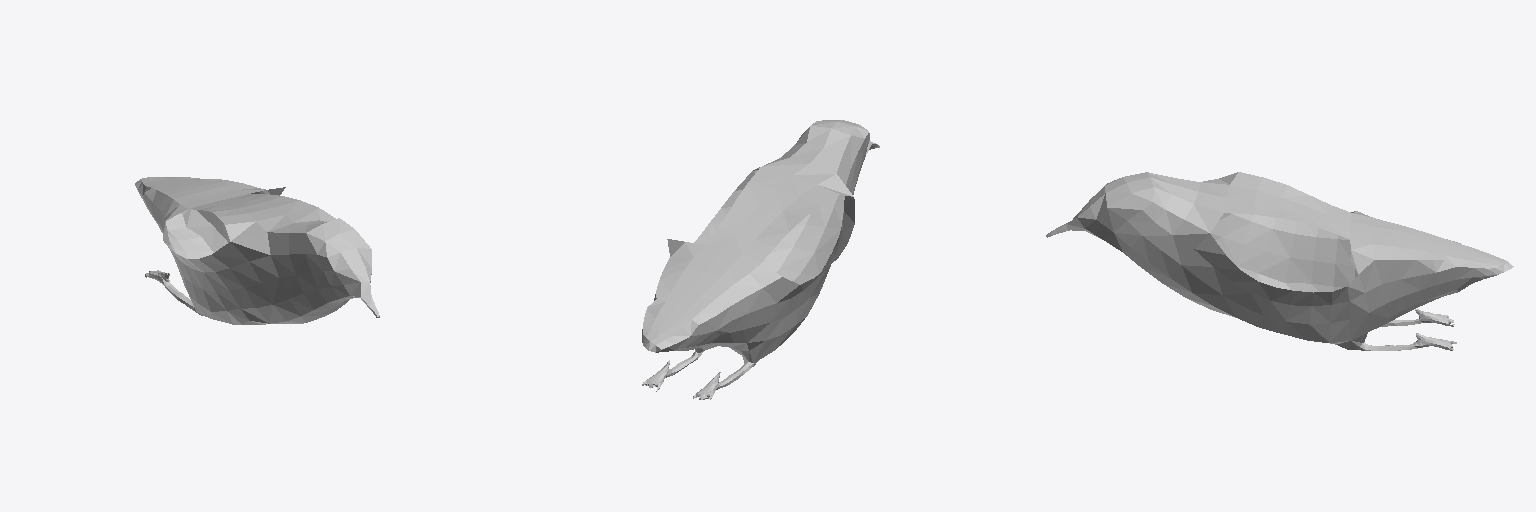
File: Cuerpo.obj
3 views of the same model, side by side, from view 1: azimuth 30°, elevation 25°; view 2: azimuth 150°, elevation 25°; view 3: azimuth 270°, elevation 25° (orthographic).
Visible parts, largest first — view 1: polySurface4 polySurface2 BirdRetop:polySurface1; view 2: polySurface4 polySurface2 BirdRetop:polySurface1; view 3: polySurface4 polySurface2 BirdRetop:polySurface1.
Part boxes in pixels (left/top/right/bottom): polySurface4 polySurface2 BirdRetop:polySurface1: left=135, top=177, right=379, bottom=324; polySurface4 polySurface2 BirdRetop:polySurface1: left=642, top=120, right=879, bottom=399; polySurface4 polySurface2 BirdRetop:polySurface1: left=1046, top=172, right=1513, bottom=350.
Bounding box in the file's own units: 1.91 × 2.08 × 5.55.